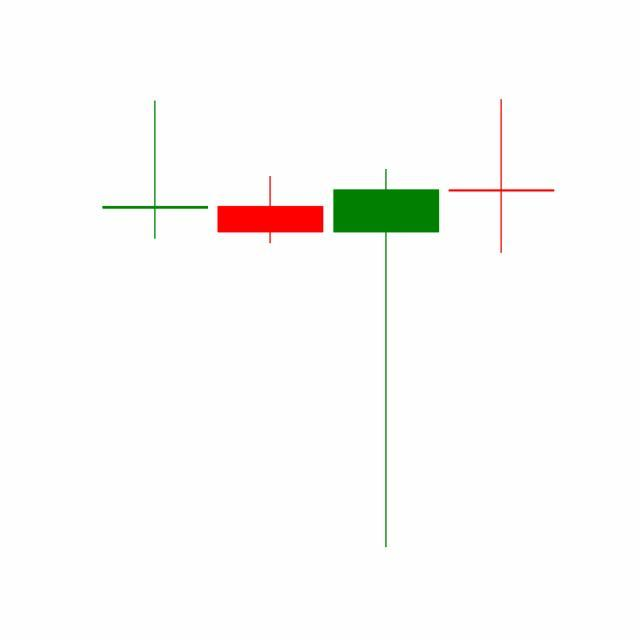Spinning Top: (444, 98, 560, 256)
